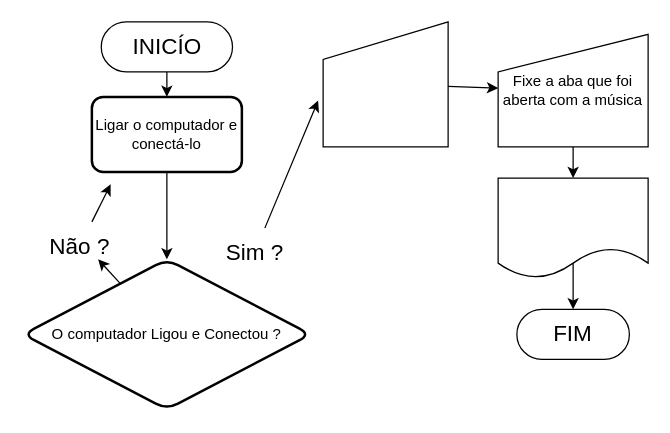
Image size: 670x433. Some labels were removed from this diagram. The shapes that lost their labels are listed below. From the top down, each one's centre as x and y in pixels, then its label:
At [385,84]: "Abra o Youtube e pesquise a música desejada".
At [572,227]: "Toque a música".
